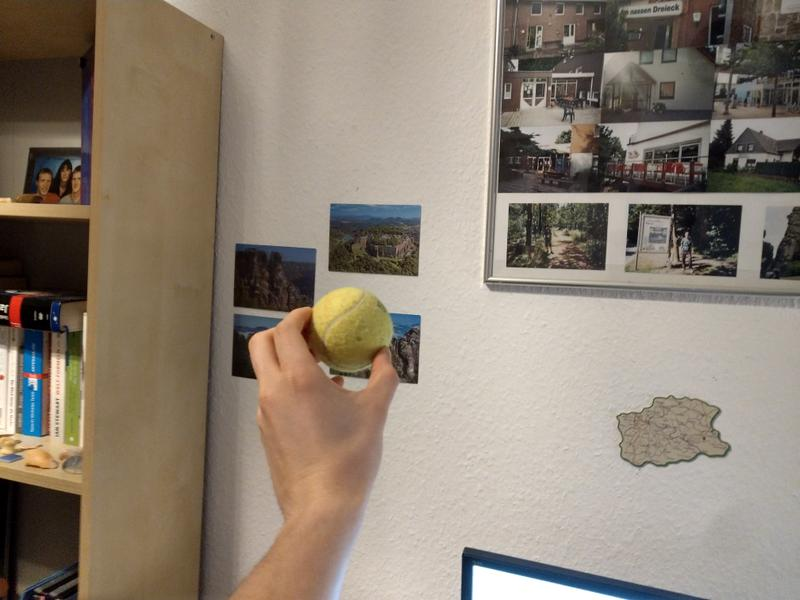Tennisball: (306, 285, 395, 379)
